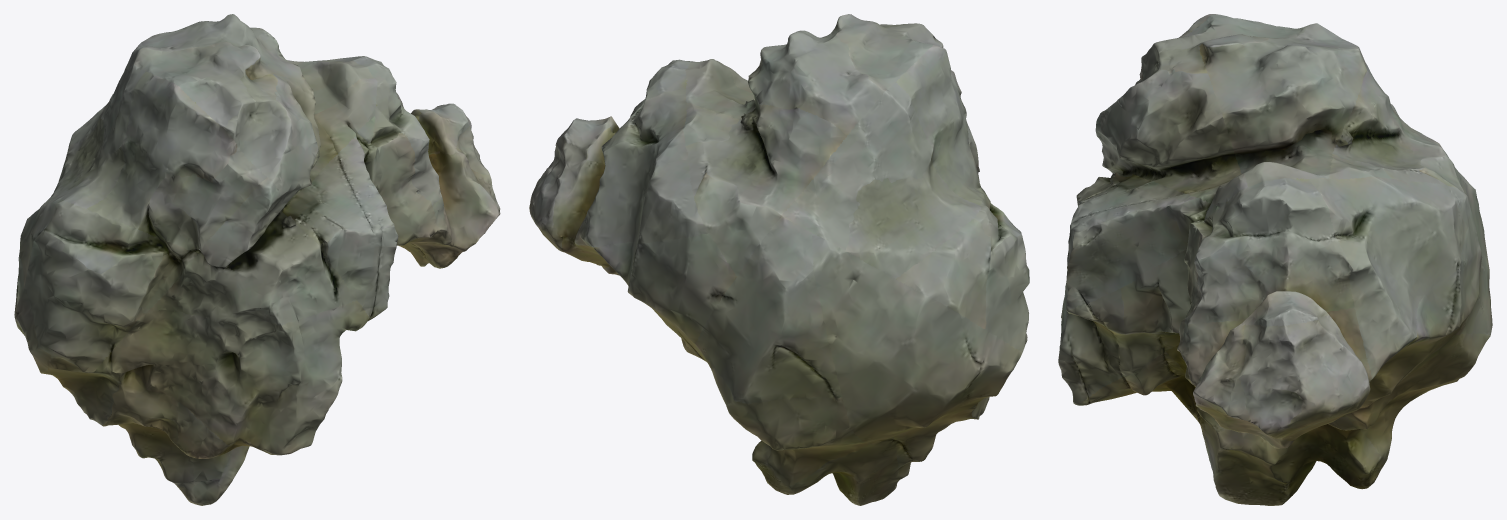
Rendered from Dieshi_4.glb.
3 views of the same model, side by side, from view 1: azimuth 30°, elevation 25°; view 2: azimuth 150°, elevation 25°; view 3: azimuth 270°, elevation 25° (orthographic). The views are drawn at different scales.
Visible parts, largest first — view 1: tripo_node_49edd4a2-c032-4b04-ab63-98f5a58b6965; view 2: tripo_node_49edd4a2-c032-4b04-ab63-98f5a58b6965; view 3: tripo_node_49edd4a2-c032-4b04-ab63-98f5a58b6965.
Boxes of the visible parts, <box> form: tripo_node_49edd4a2-c032-4b04-ab63-98f5a58b6965: <box>14,14,500,505</box>; tripo_node_49edd4a2-c032-4b04-ab63-98f5a58b6965: <box>529,14,1029,505</box>; tripo_node_49edd4a2-c032-4b04-ab63-98f5a58b6965: <box>1058,14,1492,505</box>.
Bounding box in the file's own units: 0.9991 × 0.9471 × 0.7628.
Materials: 1 (1 with a texture image).
